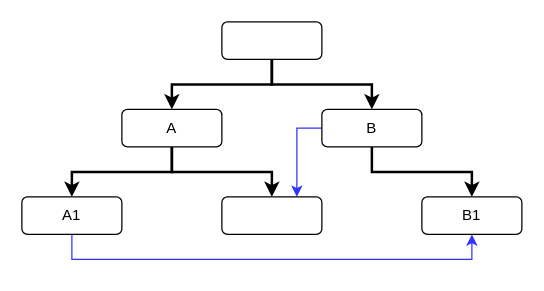
This 544x291 diagram has some shape labels left out. The shapes that lost their labels are listed below. From the top down, each one's centre as x and y in pixels, then its label:
At (271,40): "Root".
At (271,215): "A2".
